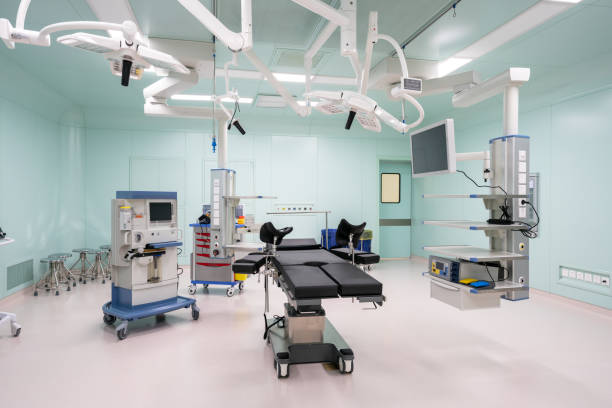bedside_monitor: (409, 117, 457, 178), (149, 203, 178, 224)
chair: (70, 245, 100, 285), (37, 257, 67, 297), (50, 252, 80, 291), (93, 244, 112, 284)
operating_bed: (233, 219, 387, 379)
surgical_light: (57, 27, 191, 87), (307, 90, 394, 133)
